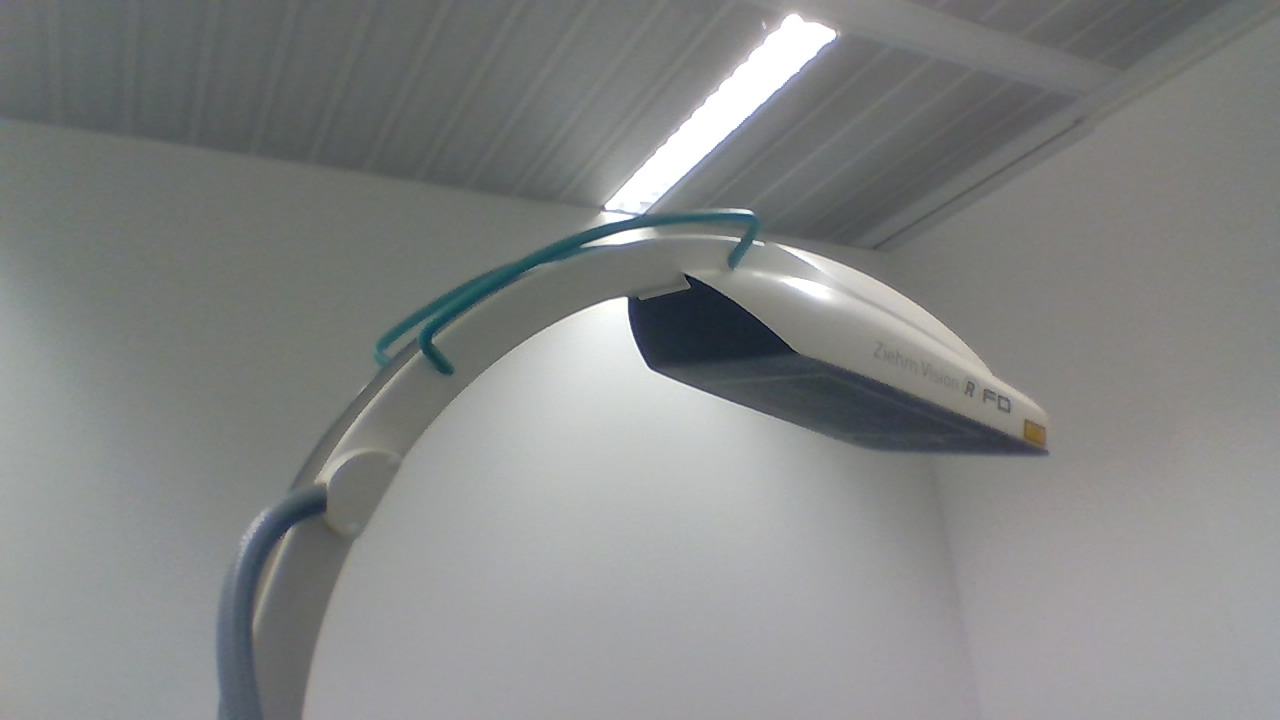carmUP: (627, 236, 1054, 459)
